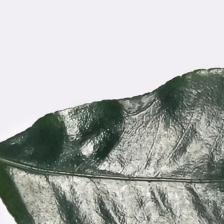healthy: (0, 66, 224, 224)
